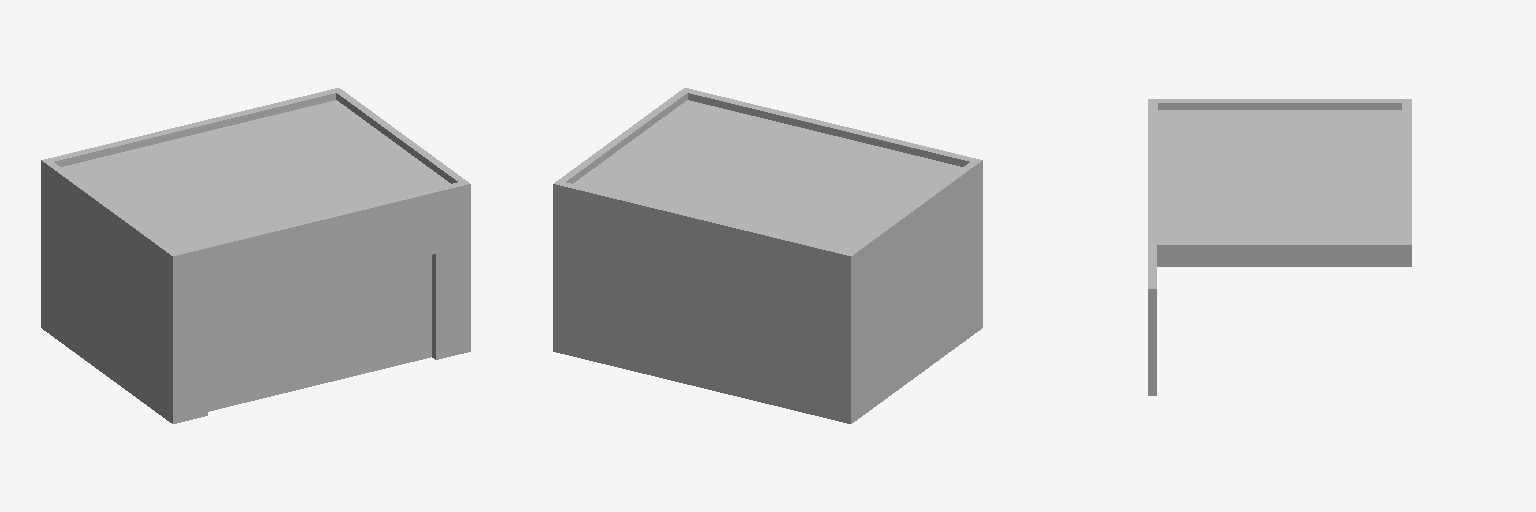
The model's file is city_factory_cerca15.obj.
The picture shows the model from 3 angles: view 1: azimuth 30°, elevation 25°; view 2: azimuth 150°, elevation 25°; view 3: azimuth 270°, elevation 25°; orthographic projection.
Parts seen in each view (by area): view 1: pasted__pCube1.002; view 2: pasted__pCube1.002; view 3: pasted__pCube1.002.
Part boxes in pixels (left/top/right/bottom): pasted__pCube1.002: left=41, top=88, right=470, bottom=423; pasted__pCube1.002: left=553, top=88, right=982, bottom=423; pasted__pCube1.002: left=1148, top=99, right=1411, bottom=395.
Bounding box in the file's own units: 17 × 9.16 × 13.